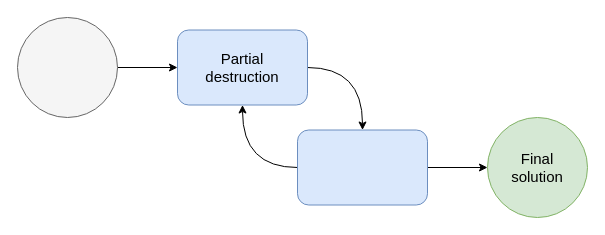
The diagram is 605 pixels wide and 235 high, and some of its shapes have lost their labels. Each missing label, with the centre of its shape:
"Initial solution" goes at pixel 67 67.
"Repair" goes at pixel 362 167.
